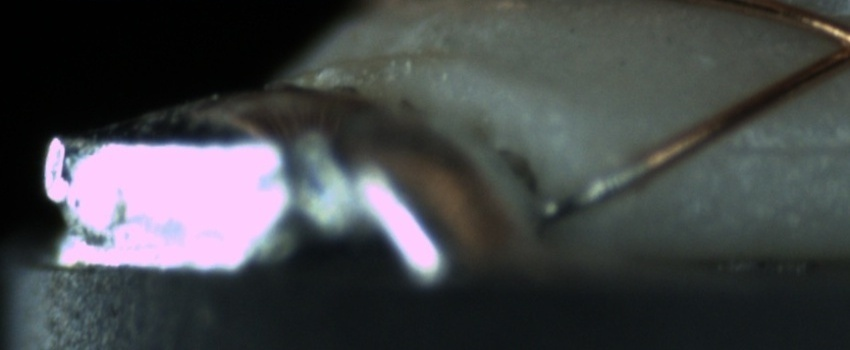CL: (806, 11, 850, 78)
DL: (707, 114, 850, 178)
TS: (535, 156, 641, 223)
TTCW: (534, 138, 668, 223)
